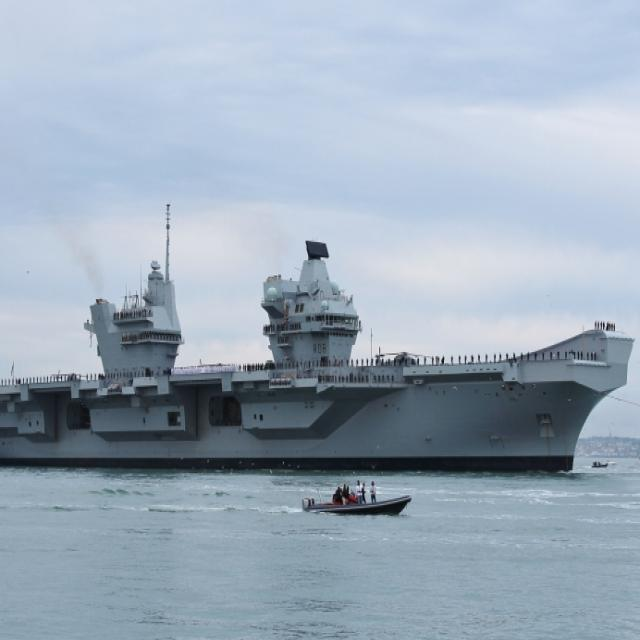Portanaves: (1, 216, 636, 479)
